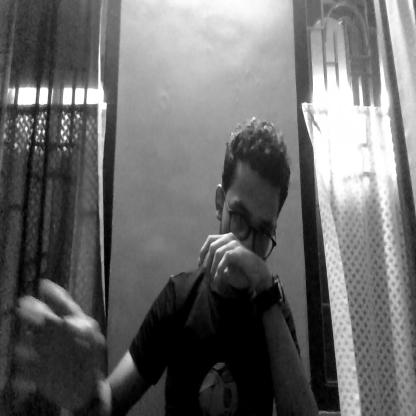Distracted: (218, 122, 287, 260)
